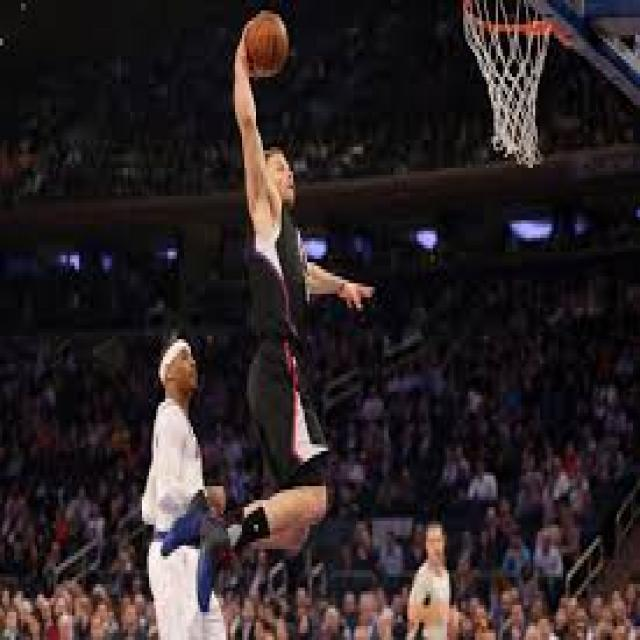rim: (246, 14, 286, 77)
